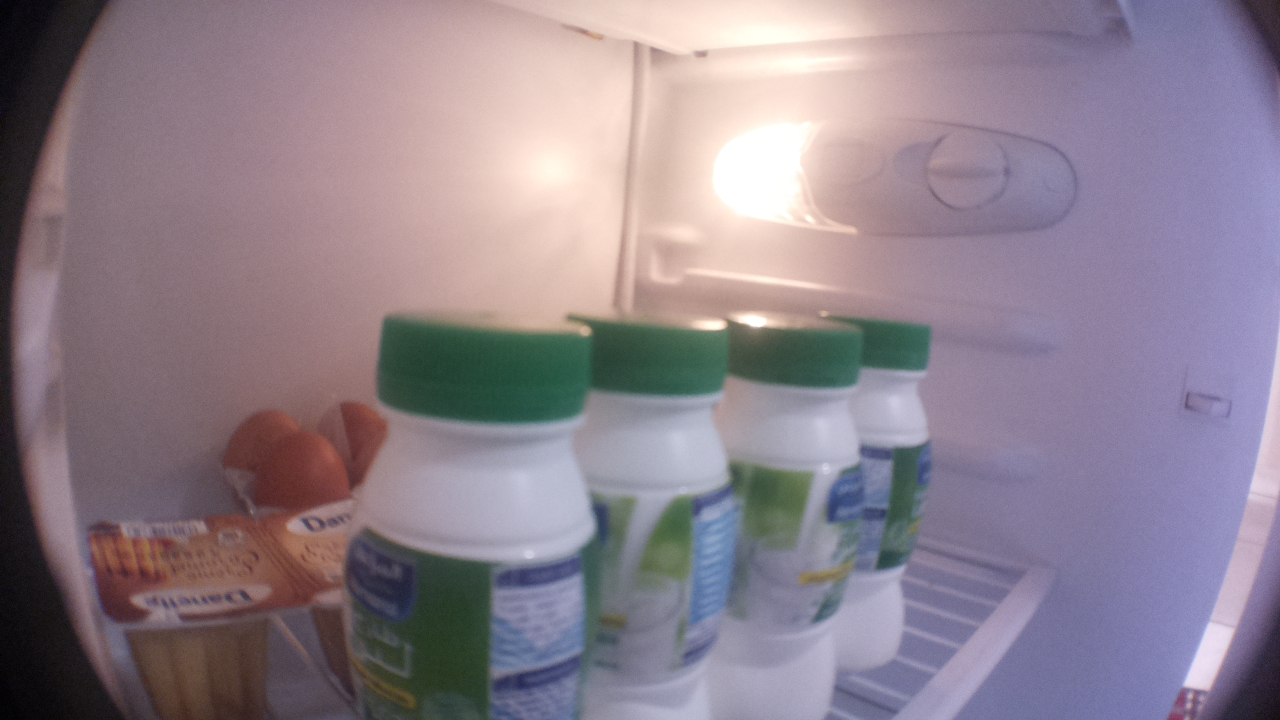caramel: (80, 509, 303, 720), (248, 496, 349, 701)
egg: (257, 432, 359, 510), (217, 397, 312, 471), (321, 387, 388, 464)
laban: (341, 294, 590, 720), (587, 313, 735, 720), (716, 309, 862, 720), (863, 318, 956, 670)
